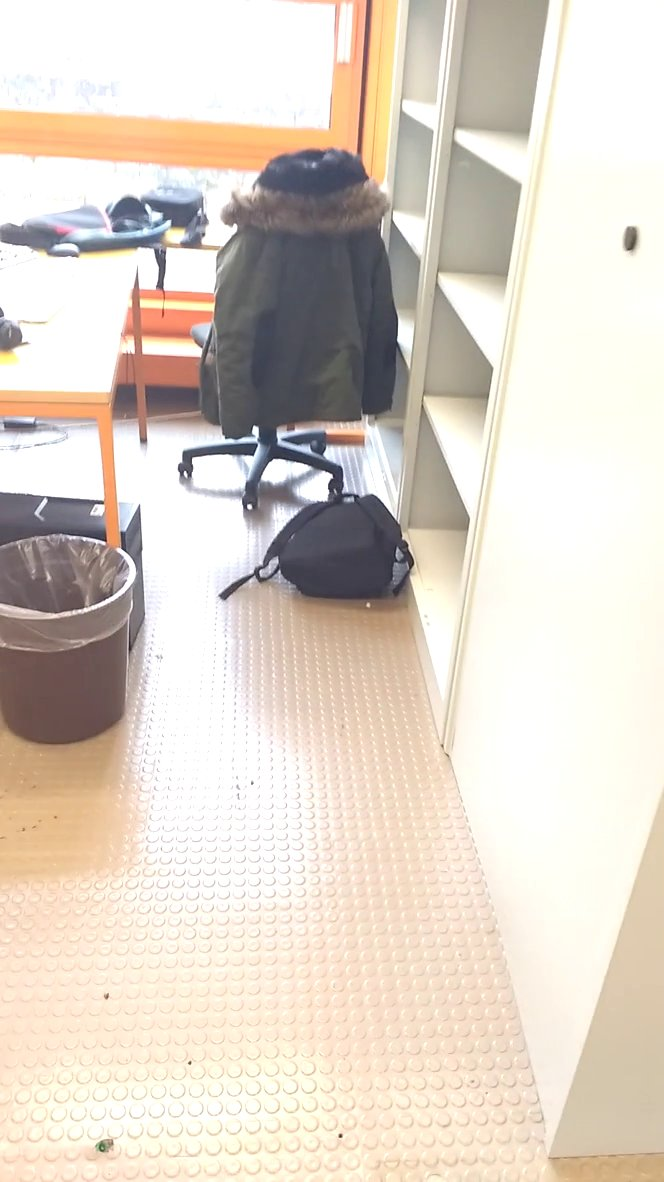bag: (209, 489, 427, 613)
bin: (1, 523, 146, 753)
